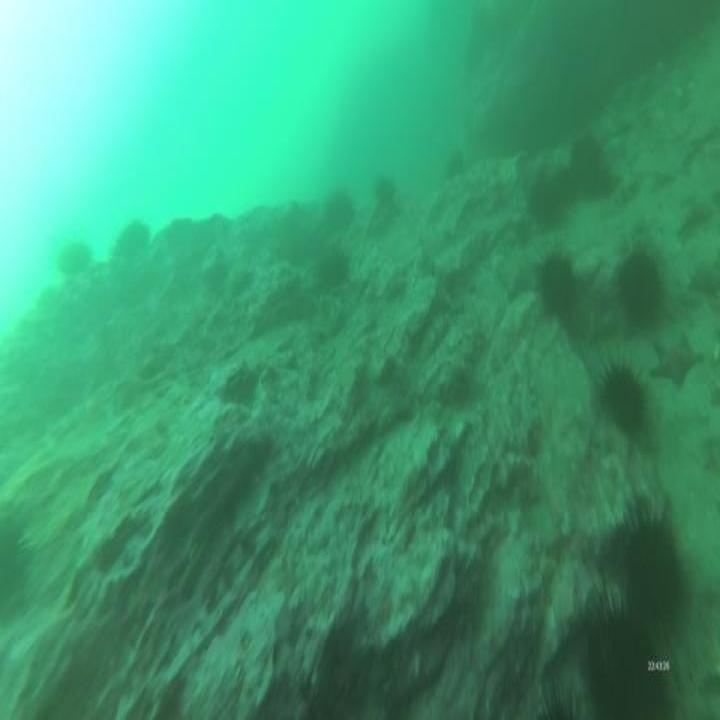echinus: (578, 594, 667, 720), (610, 494, 688, 626), (592, 347, 651, 444), (612, 240, 666, 332), (0, 509, 35, 618), (534, 244, 579, 327), (524, 677, 591, 720), (523, 167, 563, 233), (566, 130, 605, 195), (110, 213, 152, 267), (314, 242, 351, 295), (54, 238, 95, 284), (323, 183, 357, 231), (368, 169, 399, 210), (443, 147, 466, 185)
starfish: (647, 330, 706, 394)
